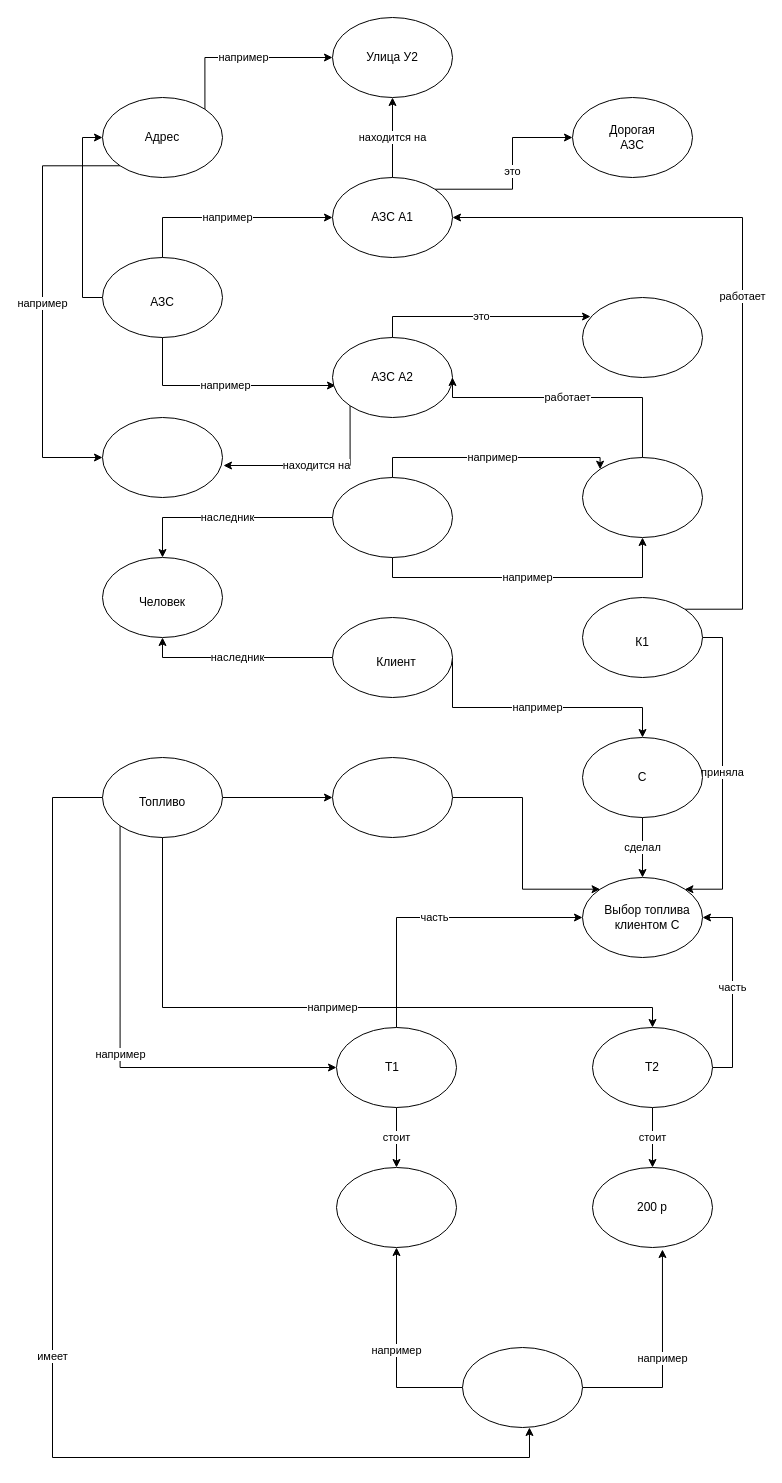
Image size: 782x1483. Some labels were removed from this diagram. Each missing label, with the box of its shape:
100 р: (336, 1166, 456, 1248)
Выбор топлива: (332, 756, 452, 838)
К2: (582, 456, 702, 538)
Кассир: (332, 476, 452, 558)
Недорогая АЗС: (582, 296, 702, 378)
Улица У1: (102, 416, 222, 498)
Цена: (462, 1346, 582, 1428)
